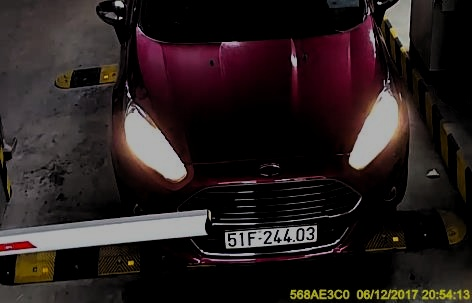plate: (219, 221, 326, 251)
